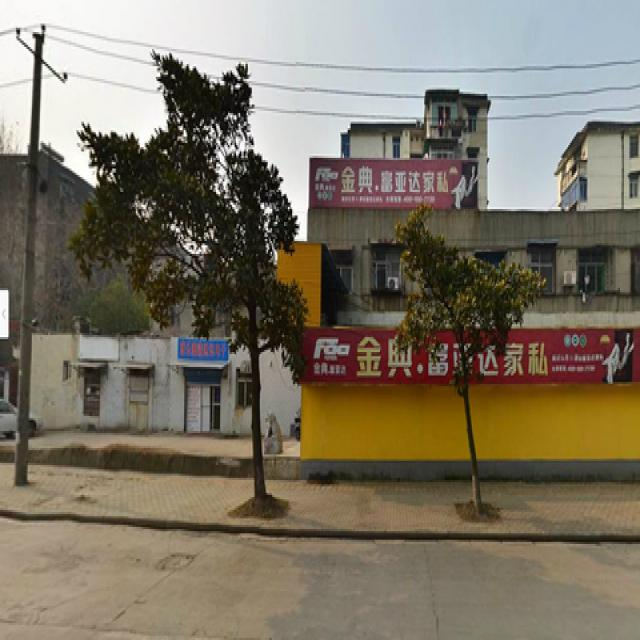magn: (98, 56, 306, 506)
